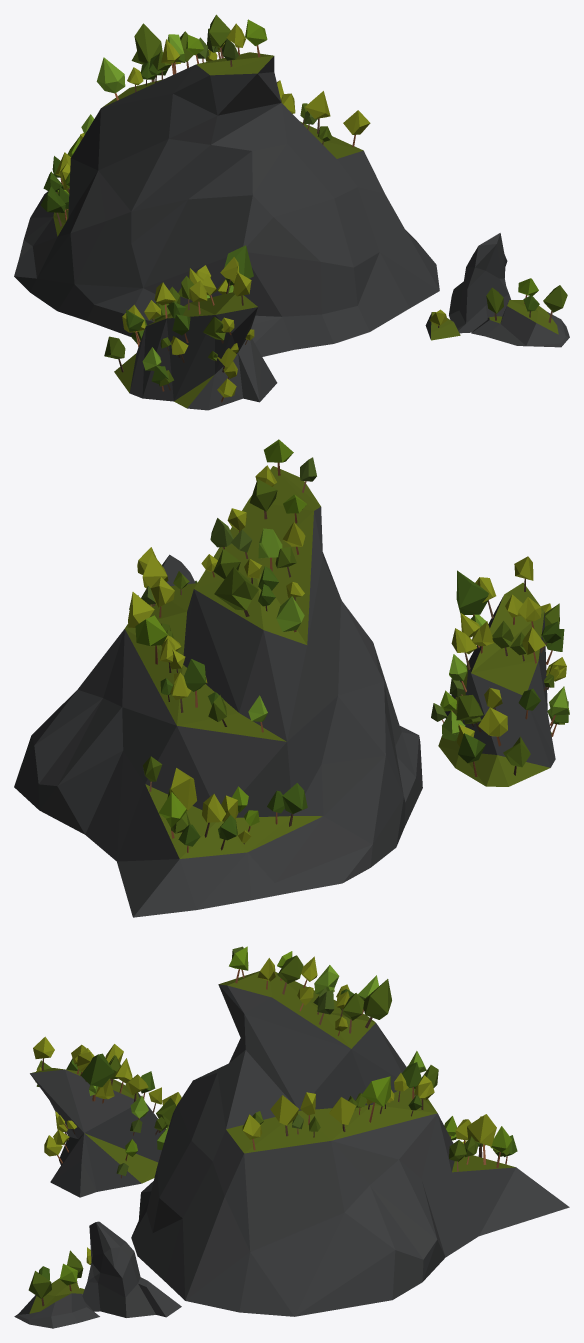
Rendered from Open Ocean Island 5.fbx.
3 renders of one model, top to bottom at view 1: azimuth 30°, elevation 25°; view 2: azimuth 150°, elevation 25°; view 3: azimuth 270°, elevation 25°, orthographic. The views are drawn at different scales.
Parts seen in each view (by area): view 1: Island 5, Trees.002; view 2: Island 5, Trees.002; view 3: Island 5, Trees.002.
Boxes of the visible parts, x1,y1,x2,y2 form: Island 5: [14, 52, 569, 410]; Trees.002: [40, 14, 567, 402]; Island 5: [14, 466, 555, 917]; Trees.002: [128, 439, 569, 852]; Island 5: [14, 971, 569, 1328]; Trees.002: [28, 946, 517, 1306].
Size of the model in its own units: 4837 by 3351 by 6031.
